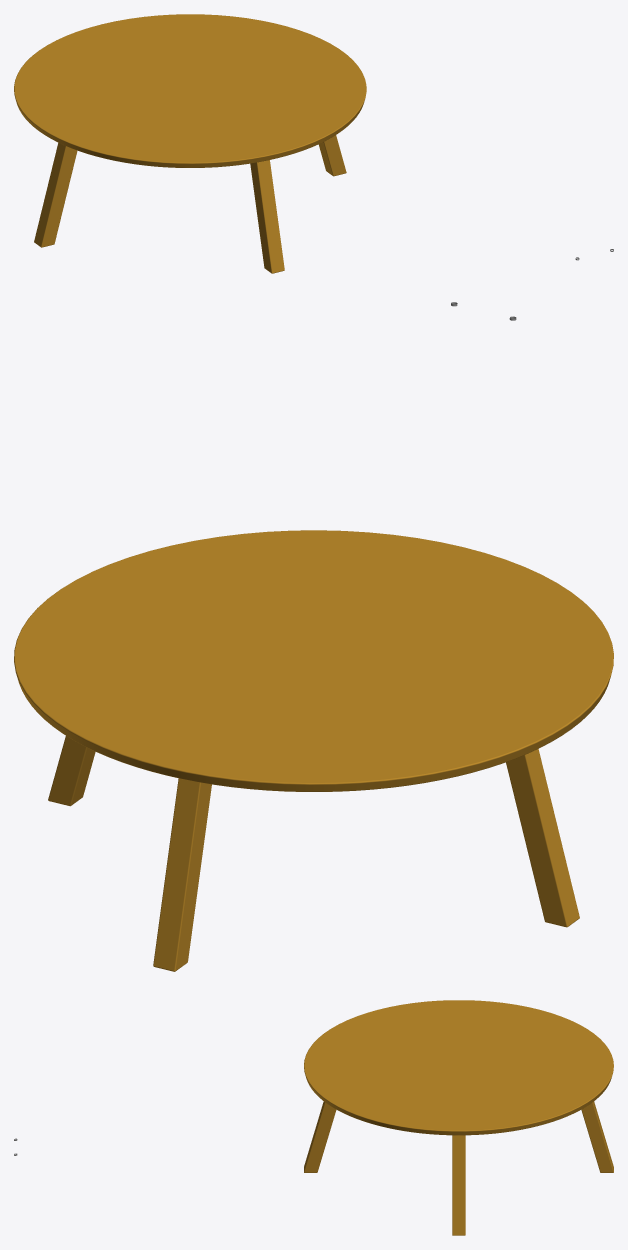
Rendered from coffee_table_ikea.dae.
3 views of the same model, one above another, from view 1: azimuth 30°, elevation 25°; view 2: azimuth 150°, elevation 25°; view 3: azimuth 270°, elevation 25° (orthographic). The views are drawn at different scales.
Parts seen in each view (by area): view 1: mesh_2_CirPattern2_2_; view 2: mesh_2_CirPattern2_2_; view 3: mesh_2_CirPattern2_2_.
Part boxes in pixels (x1,y1,x2,y2): mesh_2_CirPattern2_2_: [14, 14, 366, 273]; mesh_2_CirPattern2_2_: [14, 530, 613, 971]; mesh_2_CirPattern2_2_: [304, 1000, 613, 1235].
Bounding box in the file's own units: 0.985 × 1.8 × 0.35.
